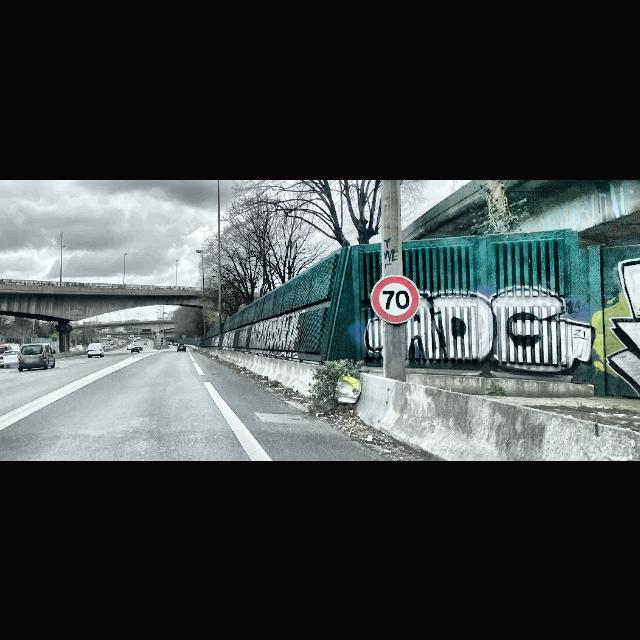speed_70: (371, 273, 421, 323)
